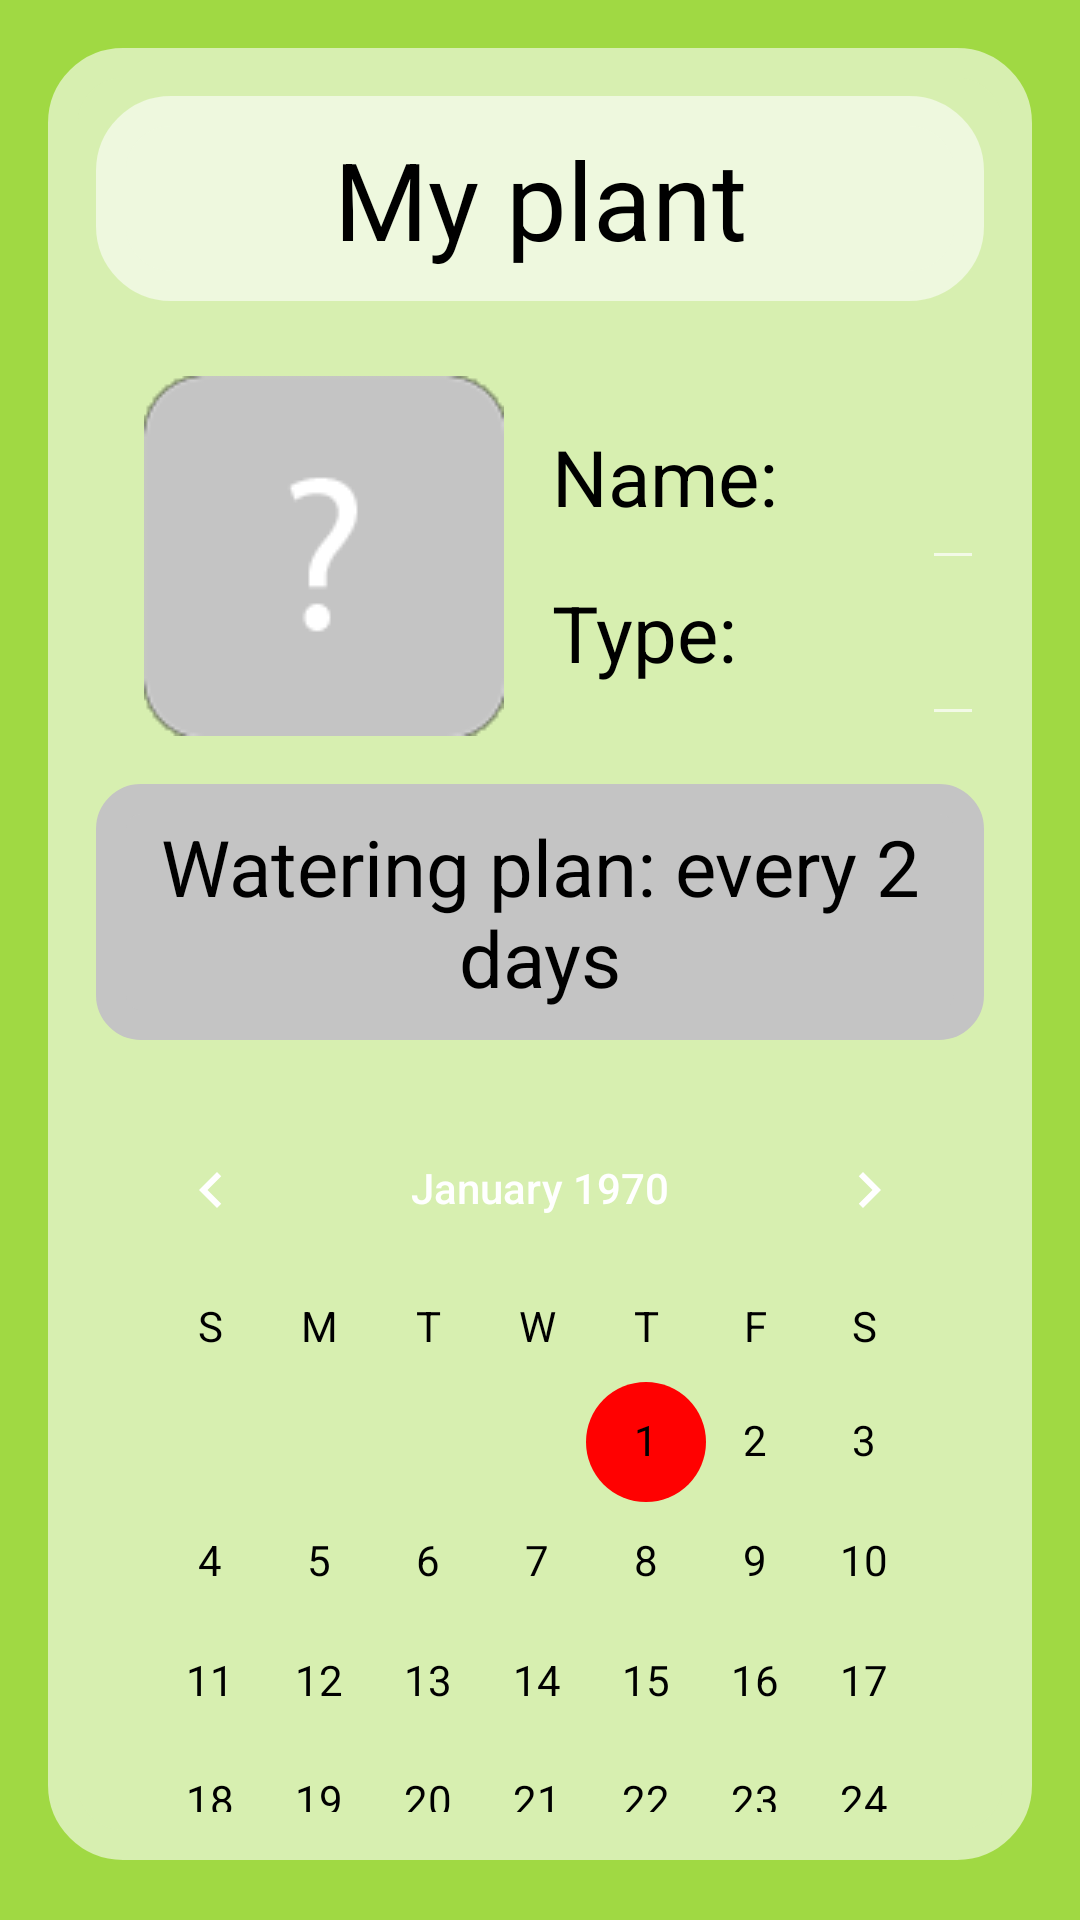

Point at icon controls on the screen. Image size 1080 × 1920, points as (x,y).
def ava: (324,556)
